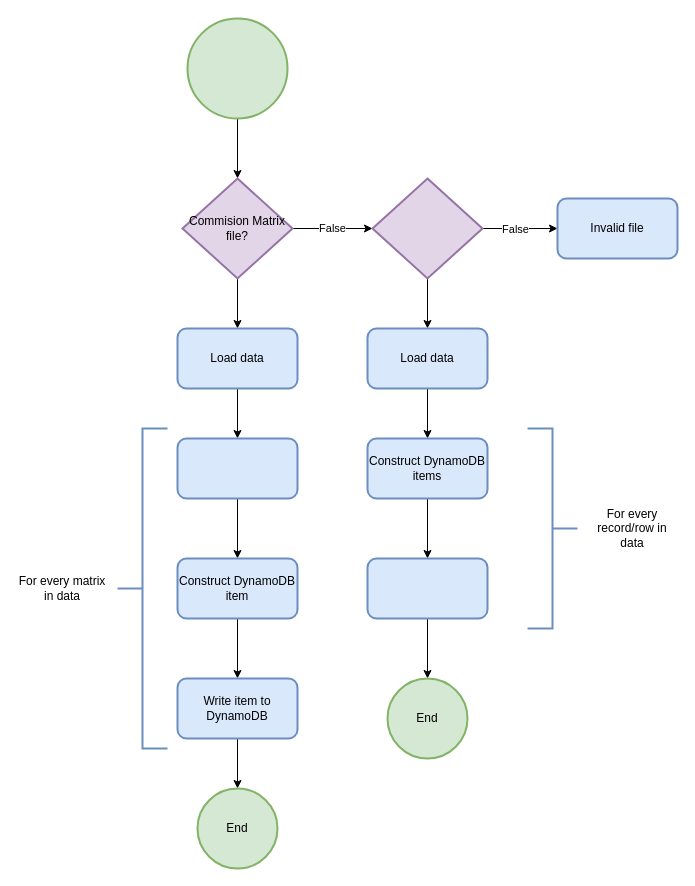
Some shapes in this 695 by 886 pixel diagram are drawn without their labels. Here are the shapes that lost their labels. From the top down, the centre of each, then its label:
the point at 237,68: Event triggers lambda
the point at 427,228: Sales Target file?
the point at 237,468: Parse matrix and matrix metadata
the point at 427,588: Write items to DynamoDB
